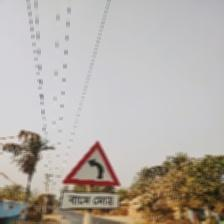Left-Turn: (59, 140, 122, 213)
